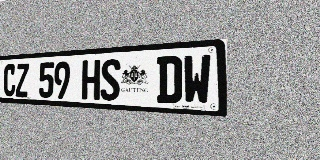5: (39, 62, 54, 98)
9: (54, 61, 70, 99)
C: (3, 64, 16, 97)
D: (157, 55, 182, 104)
H: (82, 60, 100, 100)
S: (100, 59, 121, 101)
W: (183, 54, 211, 105)
Z: (15, 63, 29, 97)
